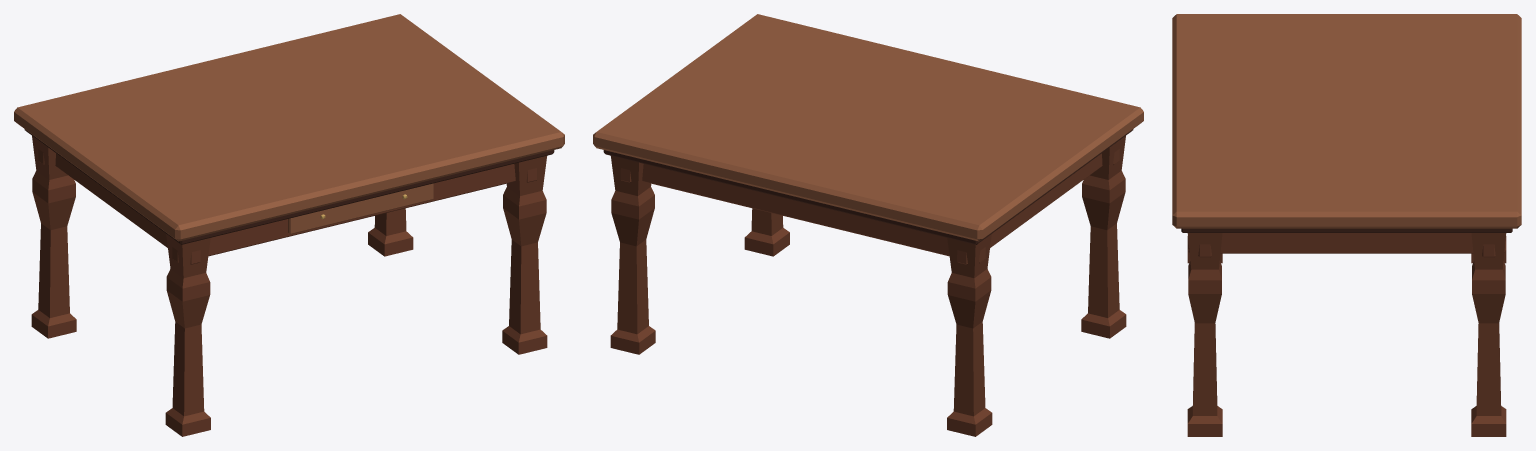
File: table_01.glb
3 views of the same model, side by side, from view 1: azimuth 30°, elevation 25°; view 2: azimuth 150°, elevation 25°; view 3: azimuth 270°, elevation 25° (orthographic). The views are drawn at different scales.
Visible parts, largest first — view 1: Top, Leg_0_0, Leg_1_0, Leg_0_1, Aprons, FrontDrawer, TopUndercut, Leg_1_1; view 2: Top, Aprons, Leg_0_1, Leg_1_1, Leg_0_0, TopUndercut, Leg_1_0; view 3: Top, Leg_1_0, Leg_1_1, Aprons, TopUndercut.
Boxes of the visible parts, x1=… form: Top: x1=14, y1=14, x2=564, y2=241; Leg_0_0: x1=165, y1=234, x2=210, y2=436; Leg_1_0: x1=502, y1=156, x2=547, y2=354; Leg_0_1: x1=31, y1=136, x2=76, y2=338; Aprons: x1=38, y1=149, x2=537, y2=264; FrontDrawer: x1=288, y1=183, x2=433, y2=234; TopUndercut: x1=24, y1=129, x2=554, y2=244; Leg_1_1: x1=368, y1=208, x2=413, y2=256; Top: x1=593, y1=14, x2=1143, y2=241; Aprons: x1=620, y1=149, x2=1119, y2=264; Leg_0_1: x1=947, y1=234, x2=992, y2=436; Leg_1_1: x1=610, y1=156, x2=655, y2=354; Leg_0_0: x1=1081, y1=136, x2=1126, y2=338; TopUndercut: x1=603, y1=129, x2=1133, y2=244; Leg_1_0: x1=744, y1=208, x2=789, y2=256; Top: x1=1172, y1=14, x2=1521, y2=228; Leg_1_0: x1=1187, y1=233, x2=1222, y2=436; Leg_1_1: x1=1471, y1=233, x2=1506, y2=436; Aprons: x1=1188, y1=233, x2=1505, y2=257; TopUndercut: x1=1181, y1=228, x2=1512, y2=232.
Size of the model in its own units: 1.5 by 0.8 by 1.1.
